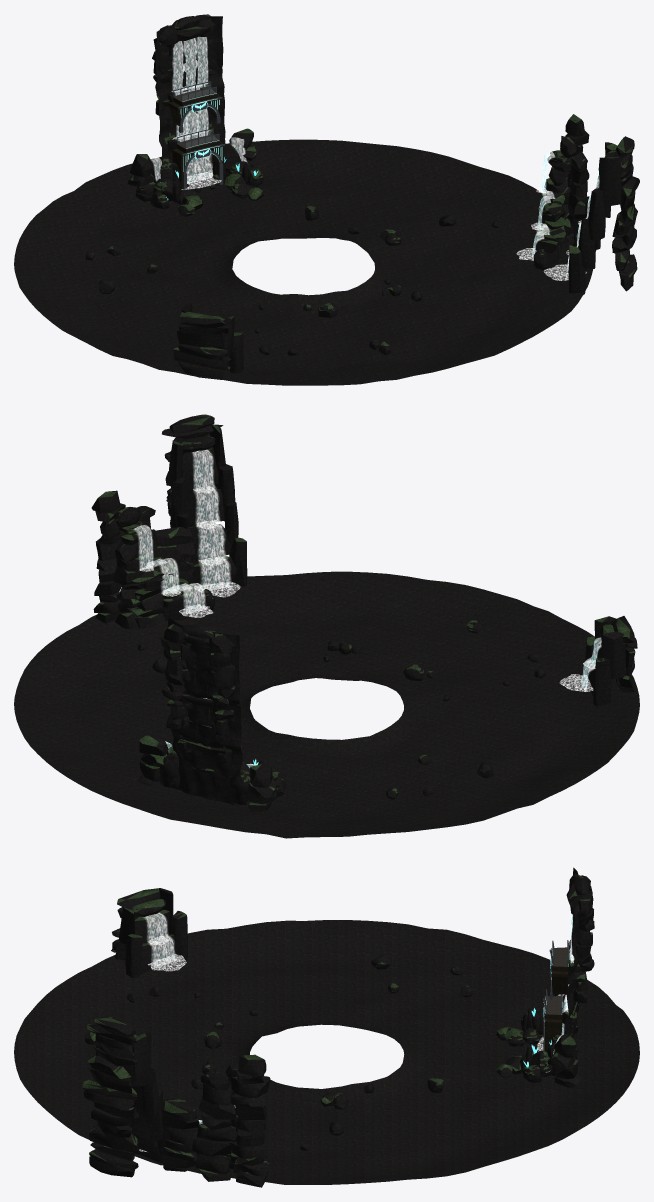
Rendered from area_agua.glb.
The picture shows the model from 3 angles, top to bottom: view 1: azimuth 30°, elevation 25°; view 2: azimuth 150°, elevation 25°; view 3: azimuth 270°, elevation 25°; orthographic projection. The views are drawn at different scales.
Visible parts, largest first — view 1: A_AGUA_fundo_lago, A_AGUA_leito_central, A_AGUA_r_direita_borda0_2, A_AGUA_r_direita_borda1_2, A_AGUA_r_direita_borda3_2, AGUA_central_3, A_AGUA_r_direita_borda2_2, A_AGUA_r_esquerda_pen_1, A_AGUA_r_esquerda_pen_3, AGUA_central_1_1, A_AGUA_ponte_inf_corpo, A_AGUA_r_esquerda_pen_5 (+1 smaller); view 2: A_AGUA_fundo_lago, A_AGUA_leito_central, AGUA_direita, A_AGUA_r_direita_deg0, A_AGUA_r_direita_deg2, A_AGUA_r_direita_deg3, A_AGUA_r_direita_deg1, A_AGUA_r_esquerda_borda0_2, A_AGUA_r_esquerda_borda1_2, A_AGUA_r_pe_80, A_AGUA_r_direita_borda3_2, A_AGUA_r_pe_88 (+6 smaller); view 3: A_AGUA_fundo_lago, AGUA_esquerda, A_AGUA_r_esquerda_deg1, A_AGUA_r_direita_borda0_0, A_AGUA_r_esquerda_deg0, A_AGUA_leito_central, A_AGUA_r_direita_pen_3, A_AGUA_r_esquerda_borda1_0, A_AGUA_r_esquerda_borda1_2, A_AGUA_r_direita_borda1_0, A_AGUA_r_cascata_paredao2_5, A_AGUA_r_cascata_paredao1_2 (+16 smaller).
Part boxes in pixels (x1=…): A_AGUA_fundo_lago: x1=14, y1=139, x2=592, y2=385; A_AGUA_leito_central: x1=155, y1=16, x2=225, y2=183; A_AGUA_r_direita_borda0_2: x1=598, y1=157, x2=621, y2=206; A_AGUA_r_direita_borda1_2: x1=588, y1=188, x2=605, y2=240; A_AGUA_r_direita_borda3_2: x1=568, y1=245, x2=585, y2=294; AGUA_central_3: x1=178, y1=131, x2=212, y2=182; A_AGUA_r_direita_borda2_2: x1=578, y1=218, x2=595, y2=268; A_AGUA_r_esquerda_pen_1: x1=173, y1=347, x2=230, y2=369; A_AGUA_r_esquerda_pen_3: x1=177, y1=329, x2=222, y2=347; AGUA_central_1_1: x1=183, y1=38, x2=197, y2=88; A_AGUA_ponte_inf_corpo: x1=172, y1=139, x2=223, y2=189; A_AGUA_r_esquerda_pen_5: x1=179, y1=311, x2=226, y2=327; A_AGUA_fundo_lago: x1=14, y1=571, x2=639, y2=838; A_AGUA_leito_central: x1=167, y1=618, x2=242, y2=805; AGUA_direita: x1=192, y1=449, x2=230, y2=590; A_AGUA_r_direita_deg0: x1=181, y1=447, x2=218, y2=491; A_AGUA_r_direita_deg2: x1=188, y1=524, x2=231, y2=562; A_AGUA_r_direita_deg3: x1=192, y1=556, x2=236, y2=593; A_AGUA_r_direita_deg1: x1=184, y1=489, x2=224, y2=524; A_AGUA_r_esquerda_borda0_2: x1=601, y1=631, x2=626, y2=678; A_AGUA_r_esquerda_borda1_2: x1=593, y1=657, x2=610, y2=706; A_AGUA_r_pe_80: x1=229, y1=762, x2=250, y2=804; A_AGUA_r_direita_borda3_2: x1=229, y1=537, x2=247, y2=586; A_AGUA_r_pe_88: x1=160, y1=746, x2=179, y2=787; A_AGUA_fundo_lago: x1=14, y1=920, x2=639, y2=1184; AGUA_esquerda: x1=143, y1=912, x2=176, y2=967; A_AGUA_r_esquerda_deg1: x1=140, y1=934, x2=176, y2=973; A_AGUA_r_direita_borda0_0: x1=132, y1=1032, x2=151, y2=1086; A_AGUA_r_esquerda_deg0: x1=135, y1=909, x2=169, y2=943; A_AGUA_leito_central: x1=565, y1=867, x2=582, y2=1038; A_AGUA_r_direita_pen_3: x1=88, y1=1125, x2=139, y2=1152; A_AGUA_r_esquerda_borda1_0: x1=125, y1=934, x2=142, y2=977; A_AGUA_r_esquerda_borda1_2: x1=172, y1=911, x2=187, y2=961; A_AGUA_r_direita_borda1_0: x1=141, y1=1064, x2=159, y2=1115; A_AGUA_r_cascata_paredao2_5: x1=161, y1=1098, x2=197, y2=1121; A_AGUA_r_cascata_paredao1_2: x1=192, y1=1136, x2=231, y2=1156.
Size of the model in its own units: 94 by 30.87 by 94.
10 materials, 6 textured.
